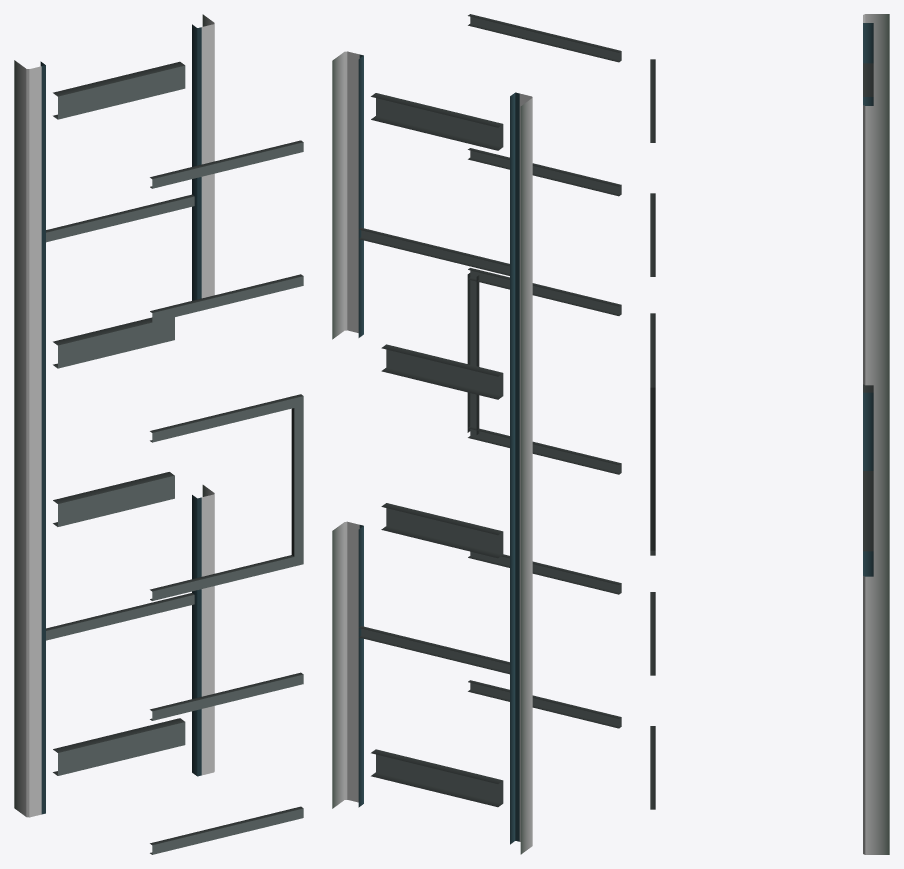
The model's file is SM_000237_w40h003_001roka_wall04_1.fbx.
3 views of the same model, side by side, from view 1: azimuth 30°, elevation 25°; view 2: azimuth 150°, elevation 25°; view 3: azimuth 270°, elevation 25° (orthographic).
Parts seen in each view (by area): view 1: SM_000237.001; view 2: SM_000237.001; view 3: SM_000237.001.
Part boxes in pixels (left/top/right/bottom): SM_000237.001: left=14, top=14, right=303, bottom=854; SM_000237.001: left=332, top=14, right=621, bottom=854; SM_000237.001: left=650, top=14, right=889, bottom=854.
Bounding box in the file's own units: 4.1 × 15.58 × 4.51.
